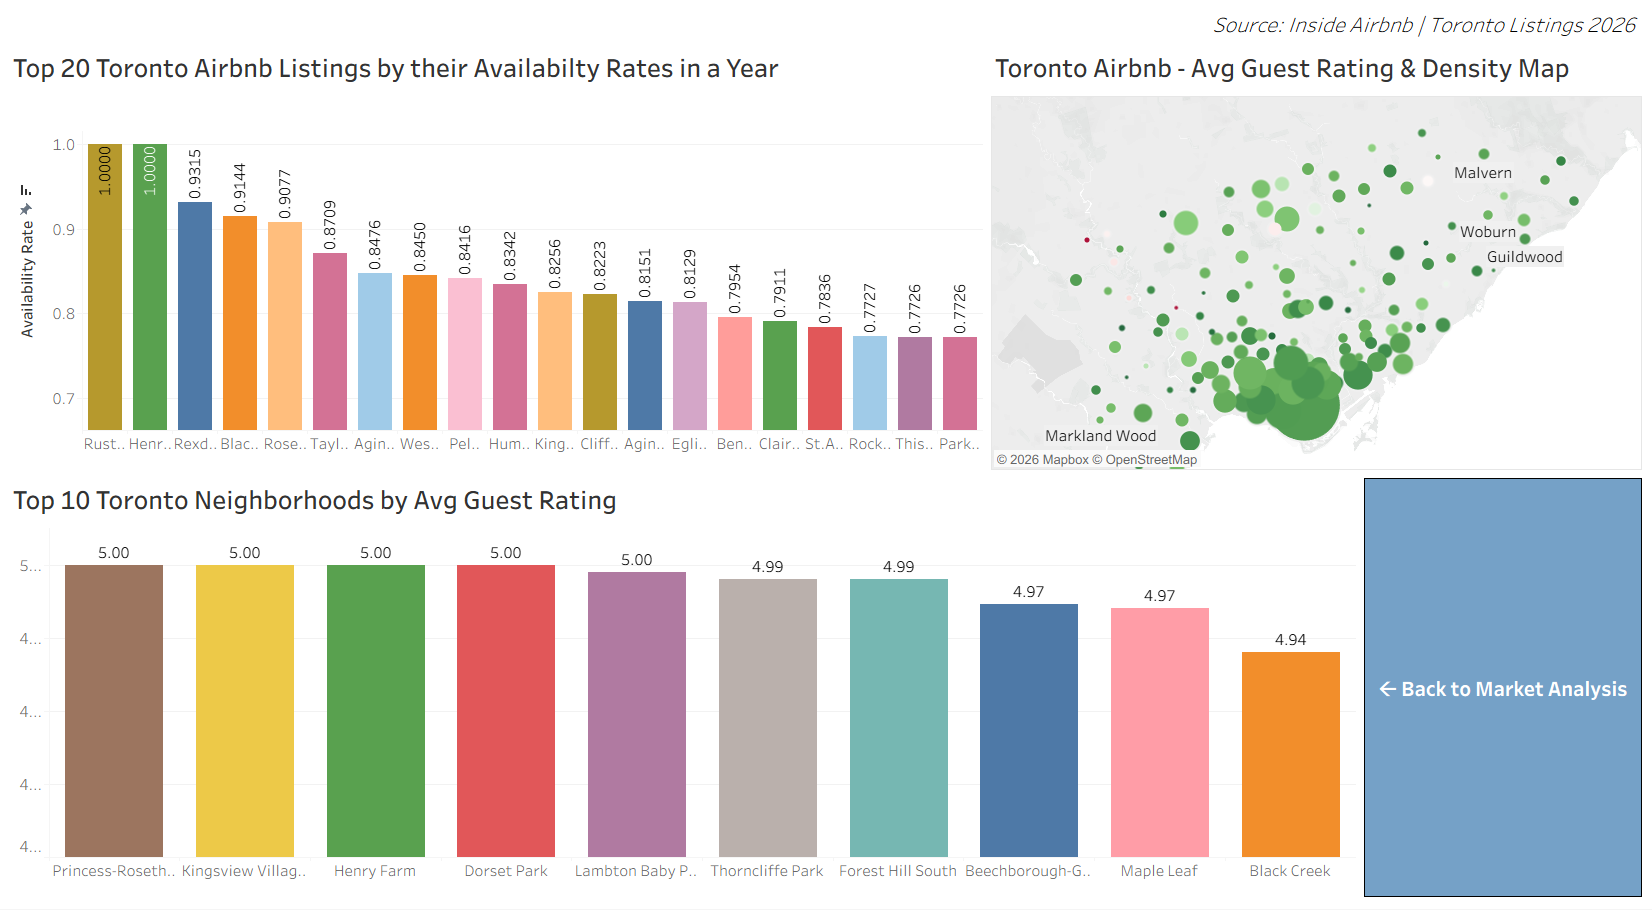

The page's visual inventory and layout, read from the dashboard file:
{"tool":"tableau","page":{"name":"Dashboard 2","canvas":[1000,1000],"units":"permille","ordinal":1},"visuals":[{"type":"title","box":[4.8,8.8,990.3,39.5]},{"type":"worksheet","title":"Sheet 3","mark":"Automatic","rows":["Calculation_1026458443169792"],"cols":["neighbourhood_cleansed"],"box":[4.8,48.3,592.4,474.1]},{"type":"worksheet","title":"Sheet 2","mark":"Automatic","rows":["latitude"],"cols":["longitude"],"box":[597.2,48.3,398,474.1]},{"type":"worksheet","title":"Sheet 4","mark":"Automatic","rows":["review_scores_rating"],"cols":["neighbourhood_cleansed"],"box":[4.8,522.4,817.8,468.9]},{"type":"dashboard-object","box":[822.6,522.4,172.6,468.9]}]}

Visuals, with their boxes on the dashboard's canvas, which has no fixed pixel size, in thousandths of its width and height (x1, y1, x2, y2). These are canvas units, not pixel positions in the 1652x910 screenshot, which may show the page scaled, cropped or inside an application window:
title: box=[5, 9, 995, 48]
"Sheet 3" worksheet: box=[5, 48, 597, 522]
"Sheet 2" worksheet: box=[597, 48, 995, 522]
"Sheet 4" worksheet: box=[5, 522, 823, 991]
dashboard-object: box=[823, 522, 995, 991]
